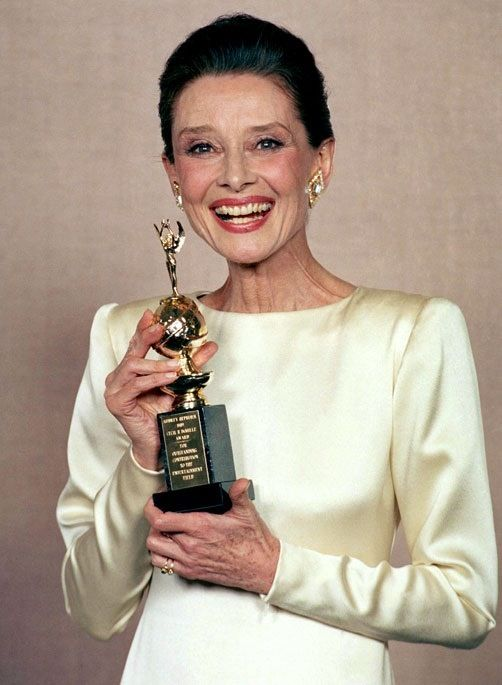hand: (146, 479, 273, 576)
